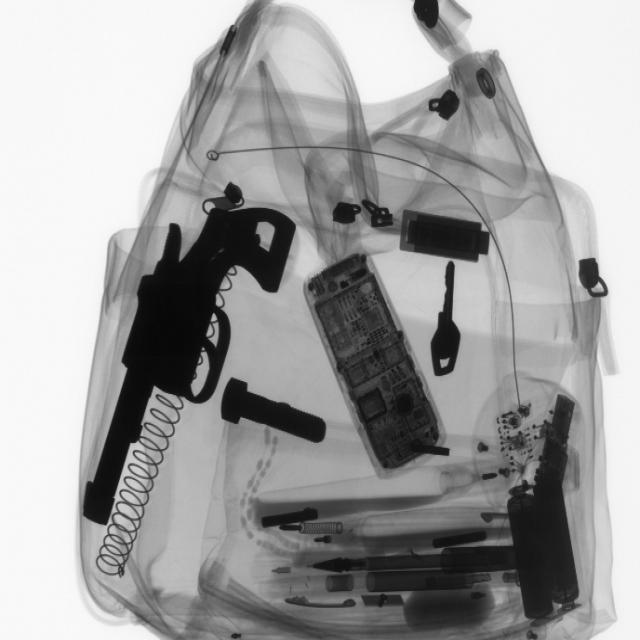GUN: (82, 196, 298, 522)
